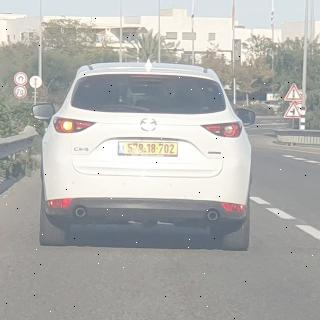LicensePlate: (125, 143, 177, 154)
